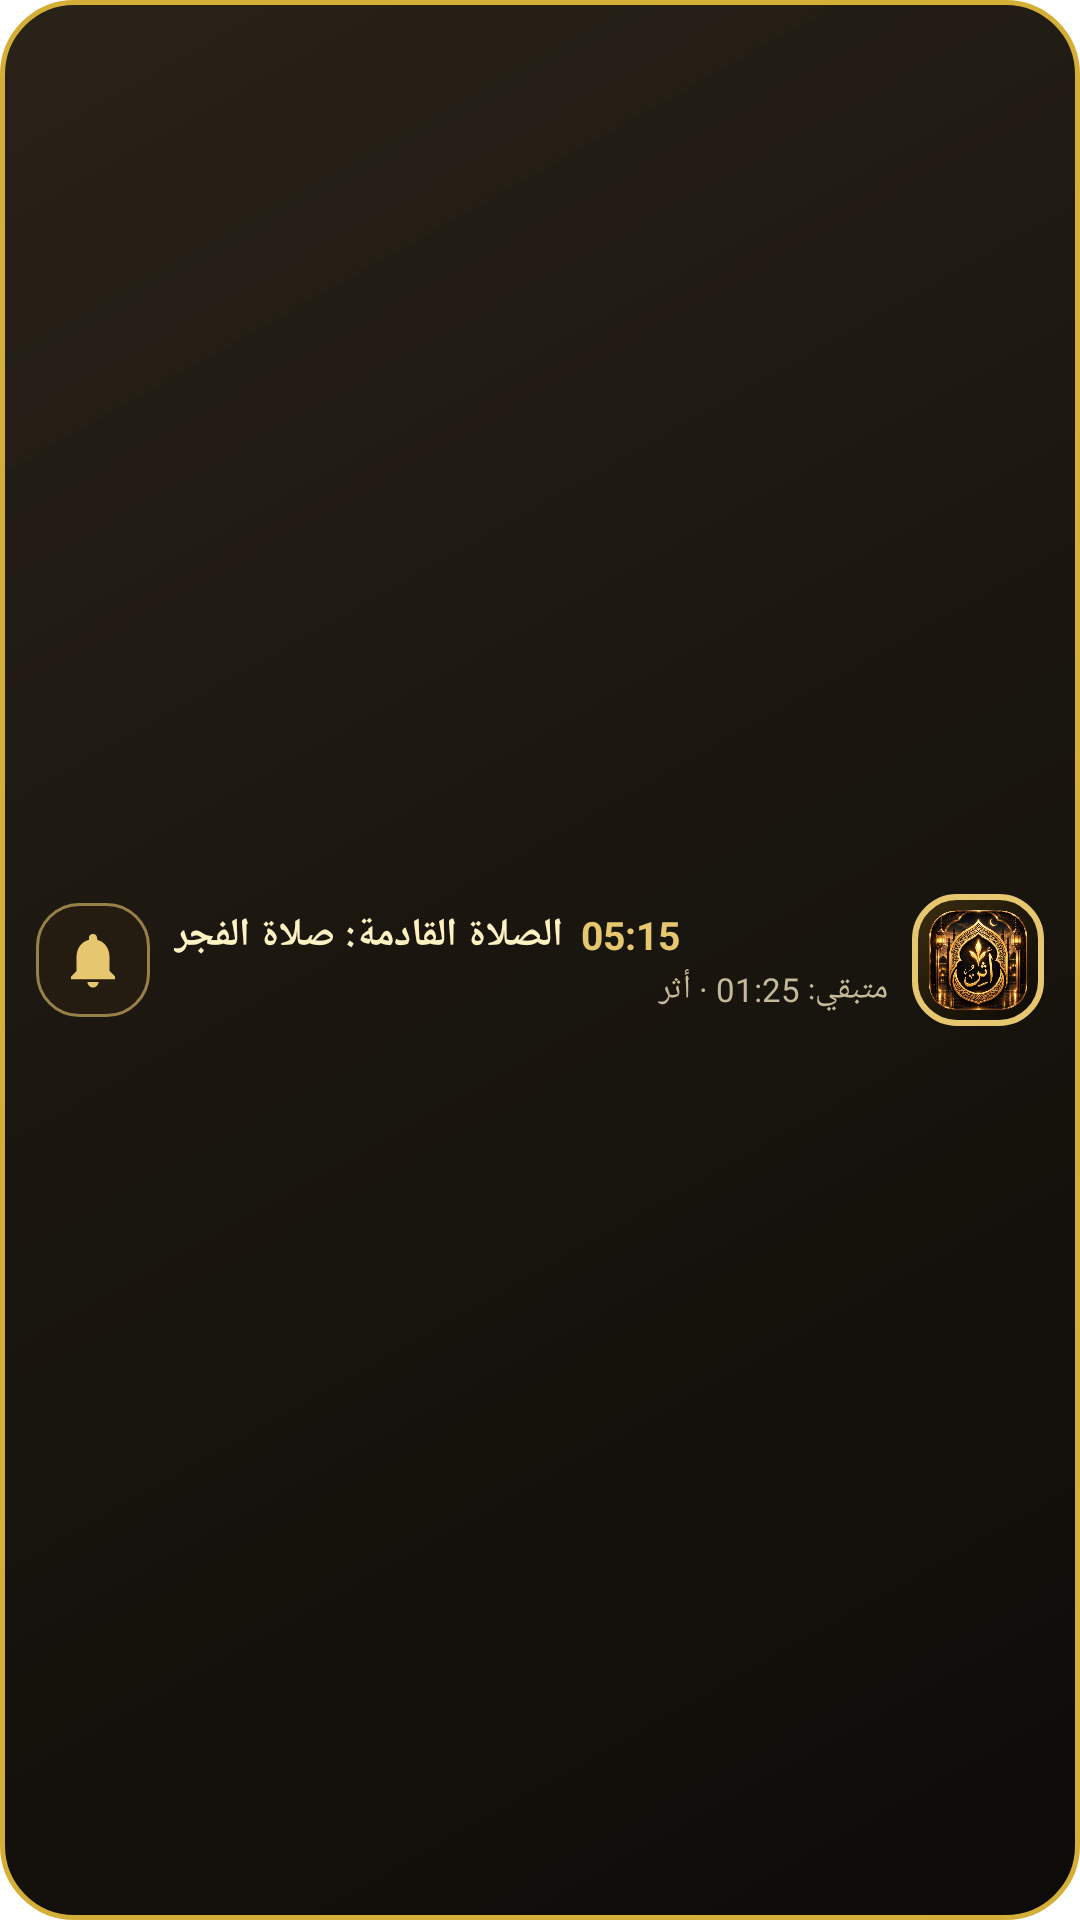

Locate icon controls on the screen. Image size 1080px×1920px, boxes as (x1, y1, x2, y2).
تبديل تنبيه الأذان: (36, 903, 150, 1017)
